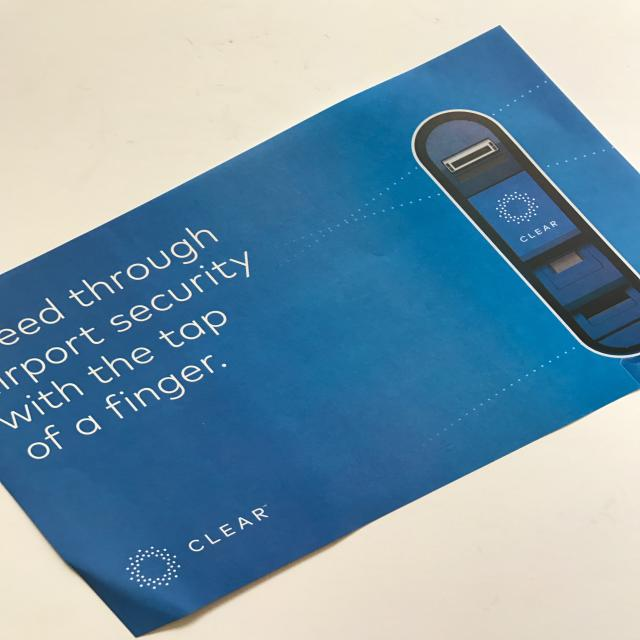paper: (1, 23, 639, 638)
